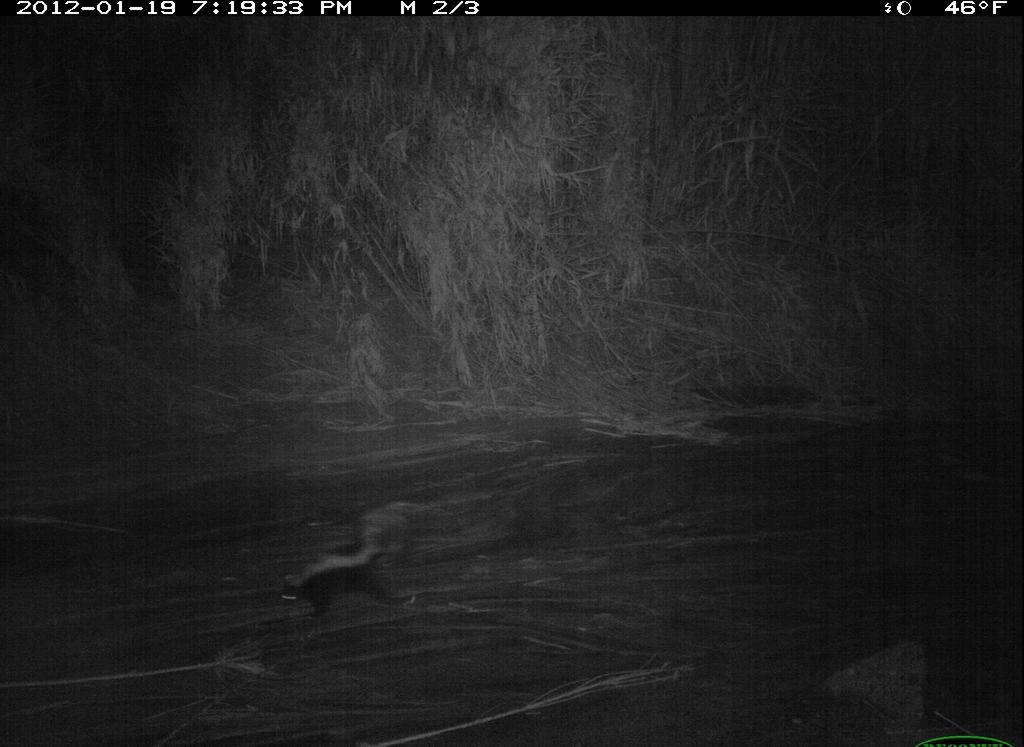skunk: (276, 500, 425, 625)
